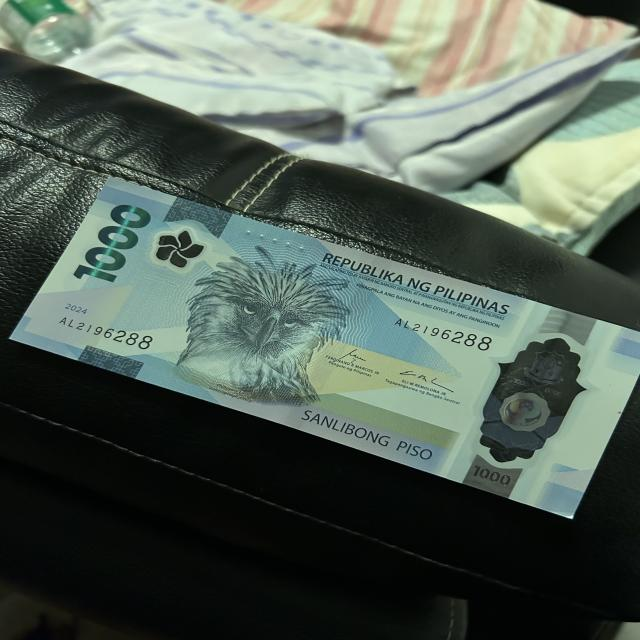clear_window: (480, 336, 592, 477)
eagle: (190, 243, 339, 403)
sampaguita: (154, 229, 207, 270)
